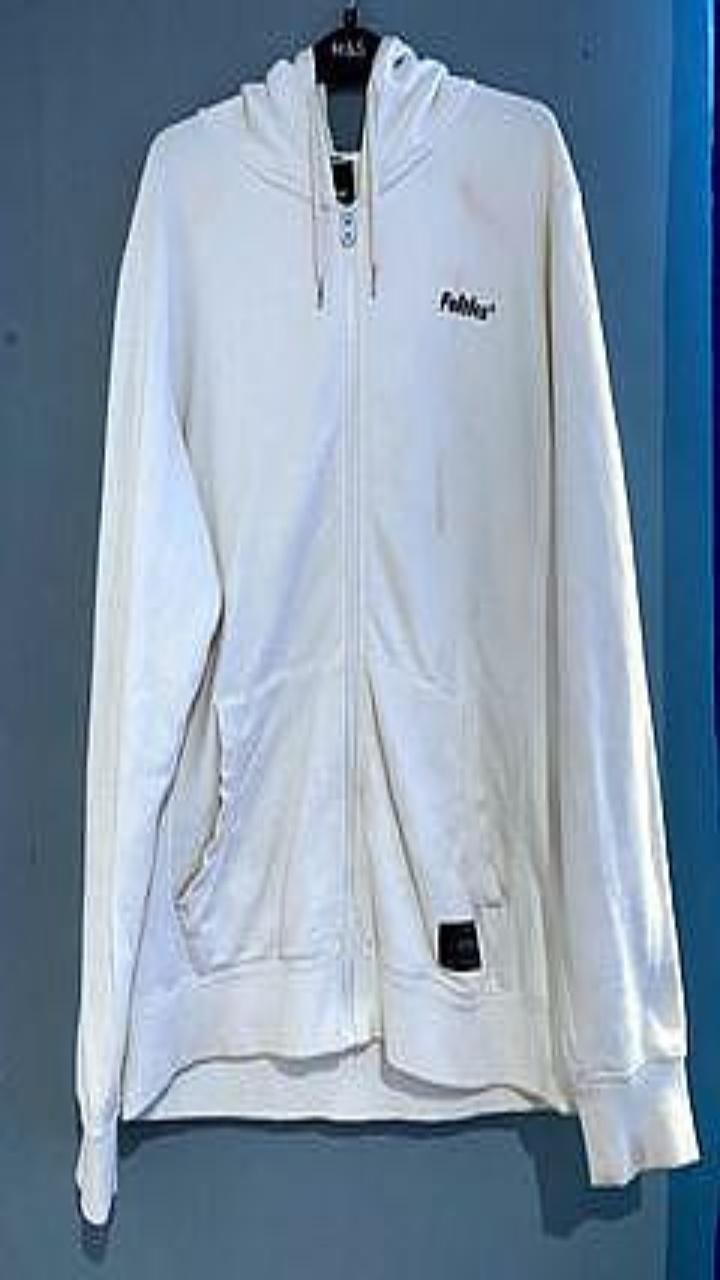Sports_Jacket: (75, 33, 698, 1222)
